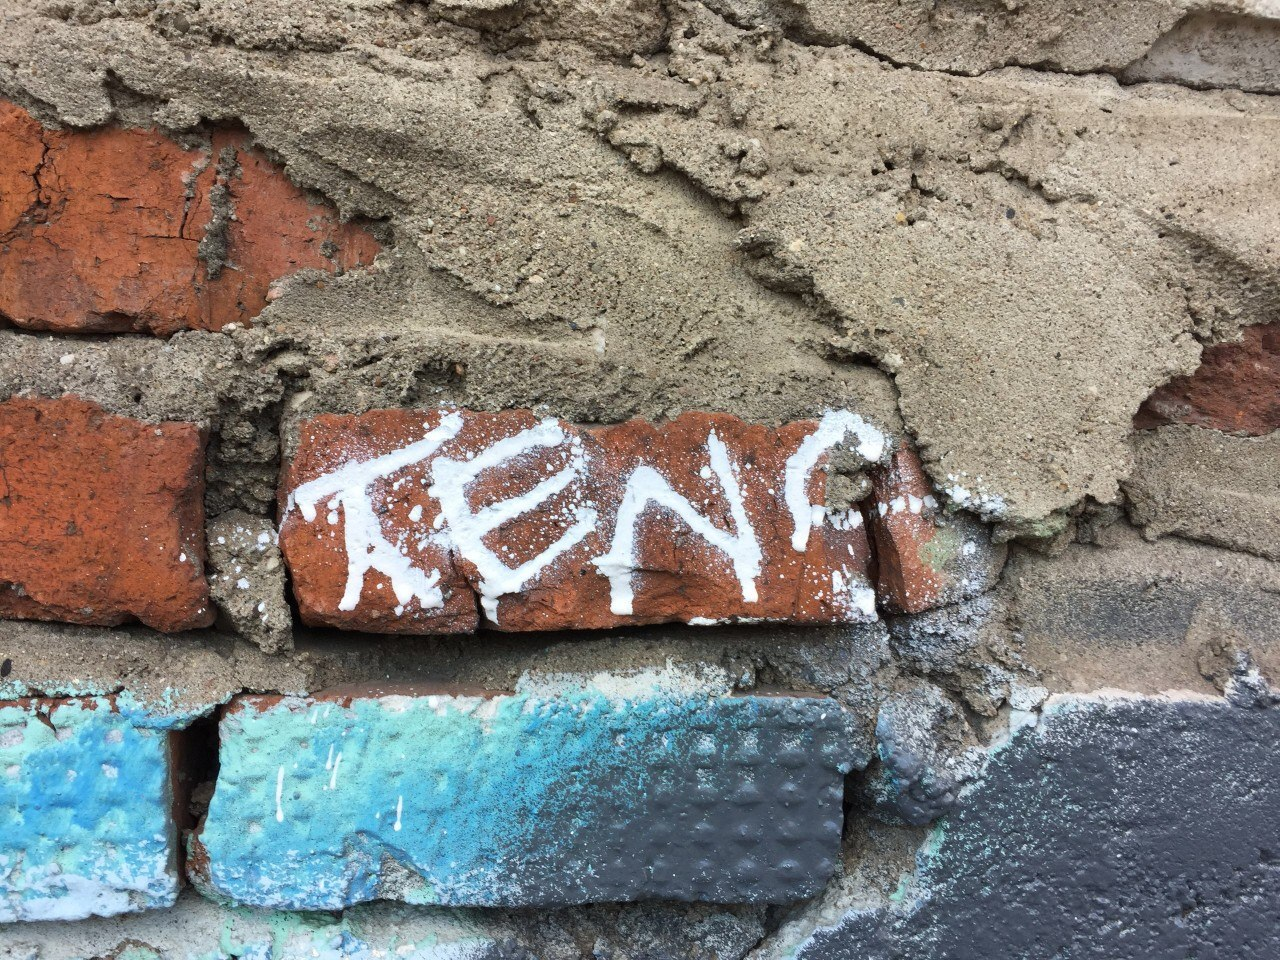graffity: (300, 389, 943, 645)
